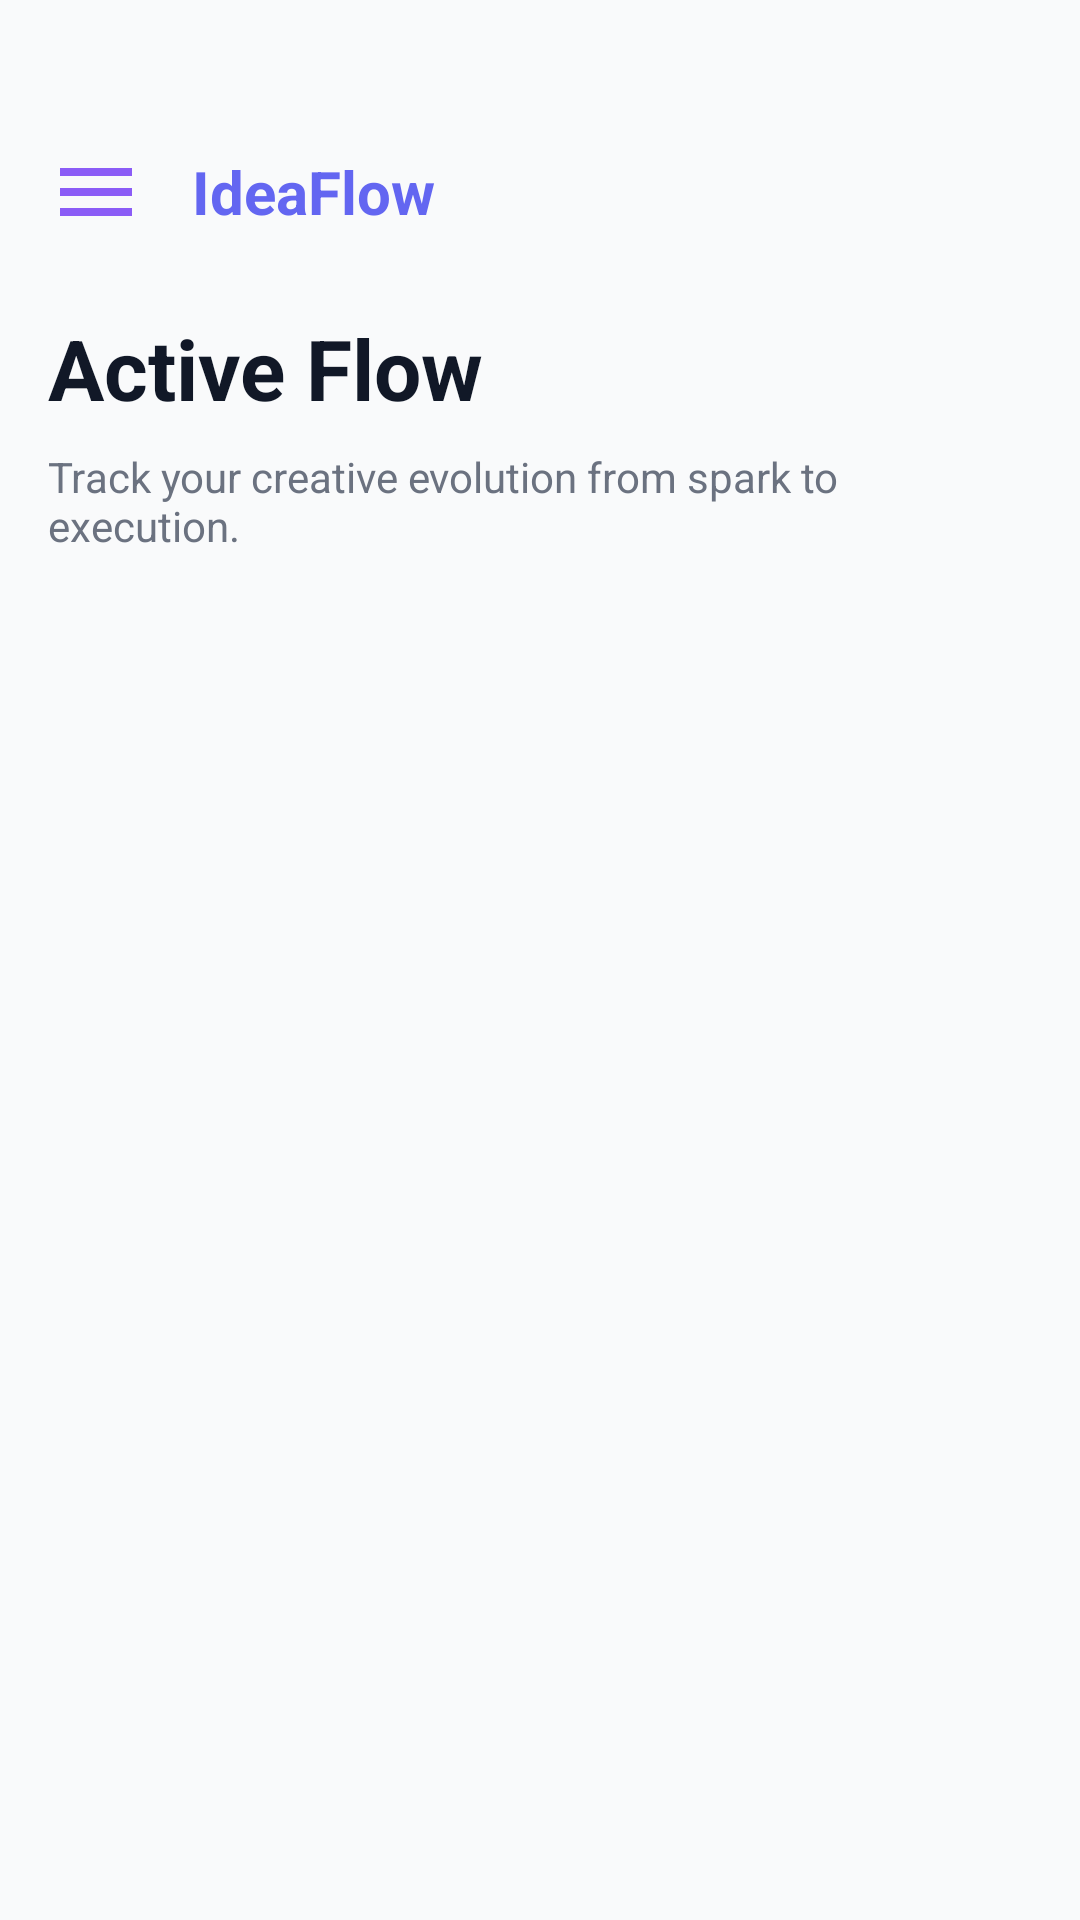

Named icons in this screenshot (1080px x 1920px) and their bounding boxes, rect(x1, y1, x2, y2):
menu: rect(60, 168, 132, 216)
